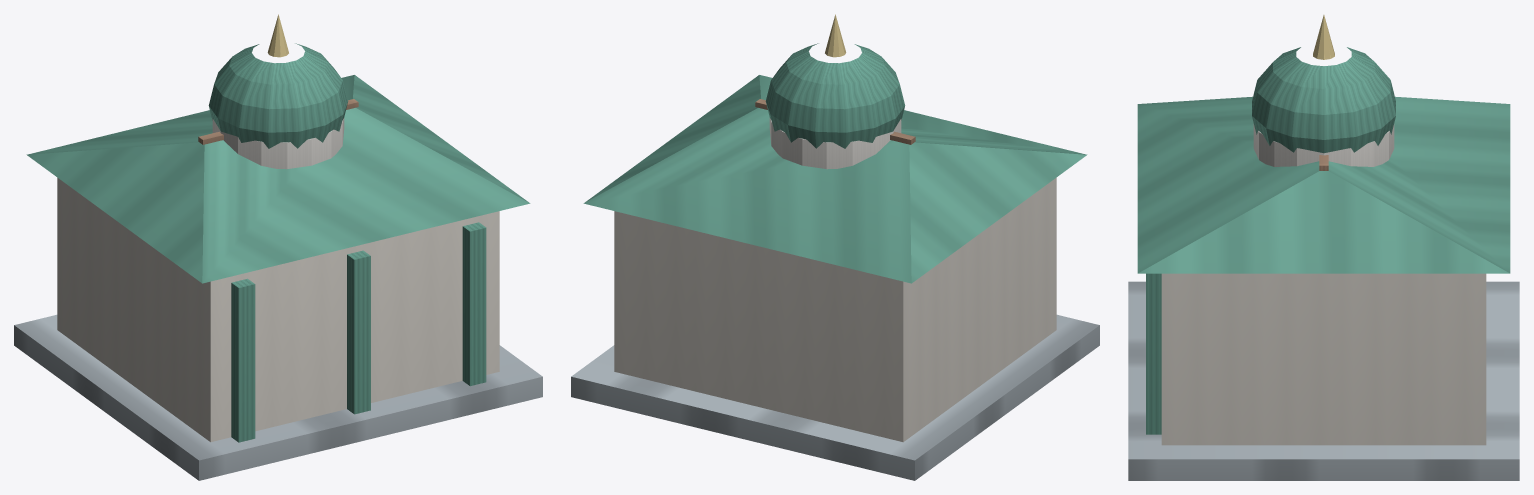
Rendered from mushola.glb.
3 views of the same model, side by side, from view 1: azimuth 30°, elevation 25°; view 2: azimuth 150°, elevation 25°; view 3: azimuth 270°, elevation 25° (orthographic). The views are drawn at different scales.
Visible parts, largest first — view 1: mushola; view 2: mushola; view 3: mushola.
Part boxes in pixels (x1,y1,x2,y2): mushola: (14, 14, 542, 480); mushola: (571, 14, 1099, 480); mushola: (1128, 15, 1519, 480).
Bounding box in the file's own units: 8.8 × 8.74 × 8.2.
1 material, 1 textured.
